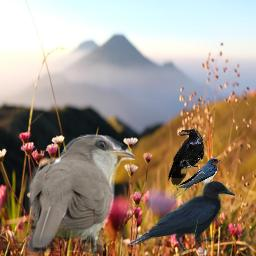Crow: (129, 180, 235, 255), (168, 129, 204, 186)
Cuckoo: (24, 134, 135, 255)
Swallow: (171, 158, 221, 199)
